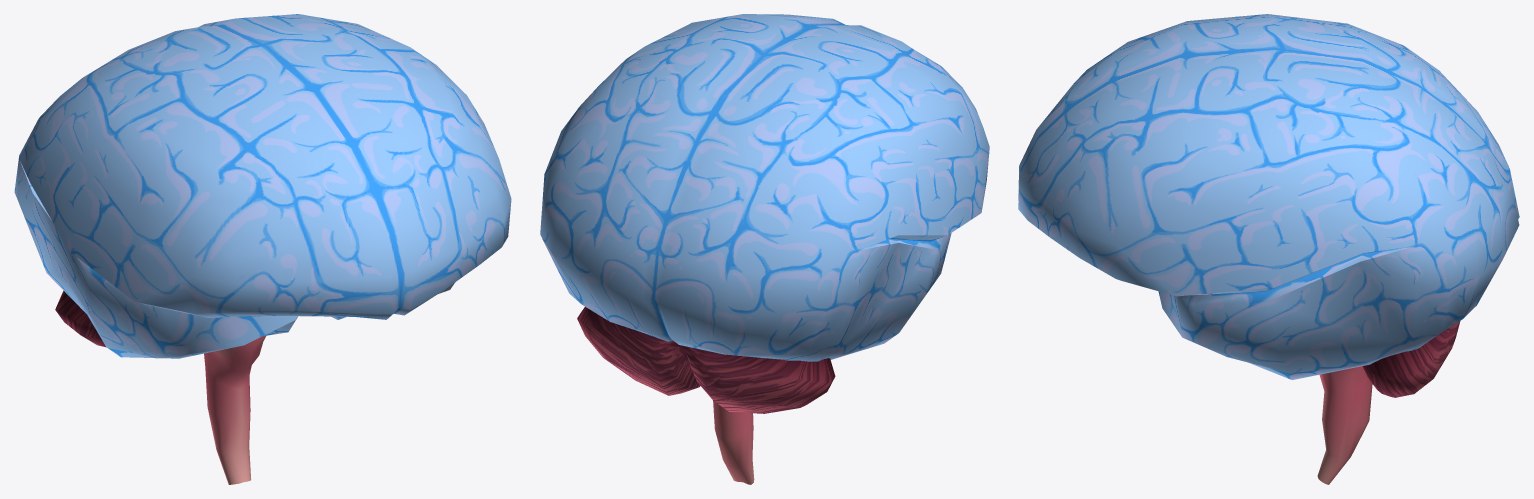
File: Brain04.fbx
3 renders of one model, left to right at view 1: azimuth 30°, elevation 25°; view 2: azimuth 150°, elevation 25°; view 3: azimuth 270°, elevation 25°, orthographic. The views are drawn at different scales.
Parts seen in each view (by area): view 1: Brain04; view 2: Brain04; view 3: Brain04.
Part boxes in pixels (bbox=[...]): Brain04: bbox=[14, 14, 511, 484]; Brain04: bbox=[540, 14, 989, 484]; Brain04: bbox=[1018, 14, 1519, 484].
Bounding box in the file's own units: 142 × 158 × 165.
